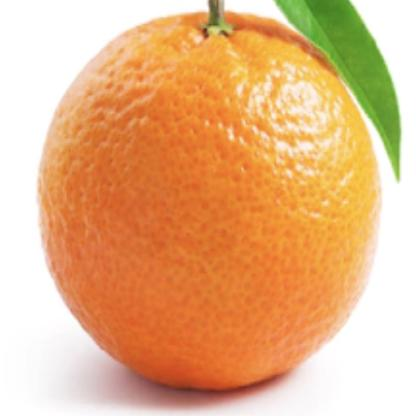fresh: (42, 10, 379, 403)
